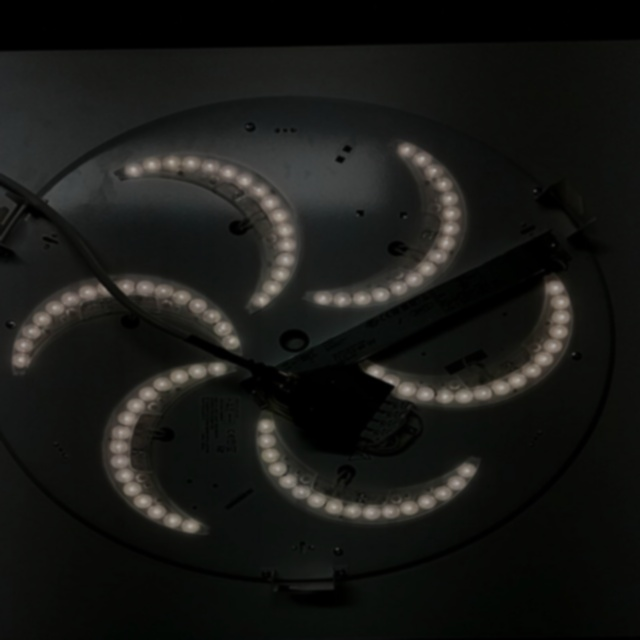led: (260, 410, 480, 530)
